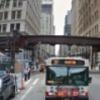buses: (40, 56, 91, 100)
cars: (0, 74, 16, 99)
